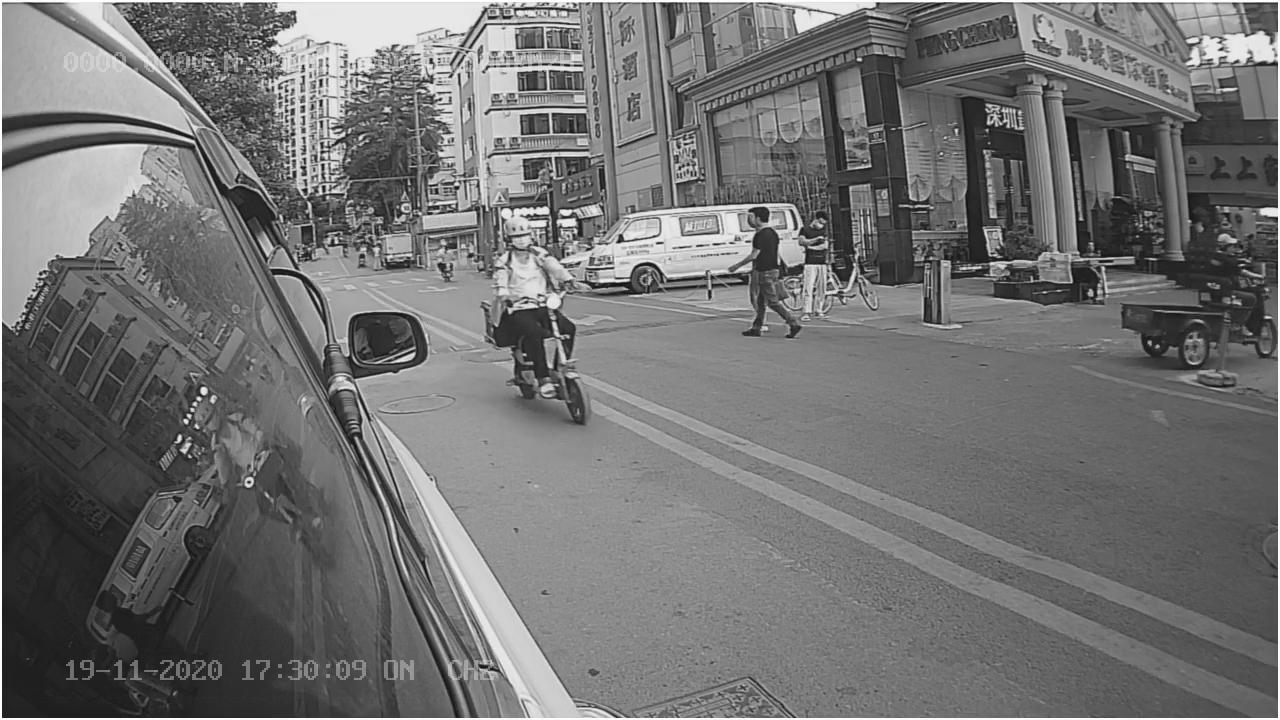person: (479, 211, 571, 288)
